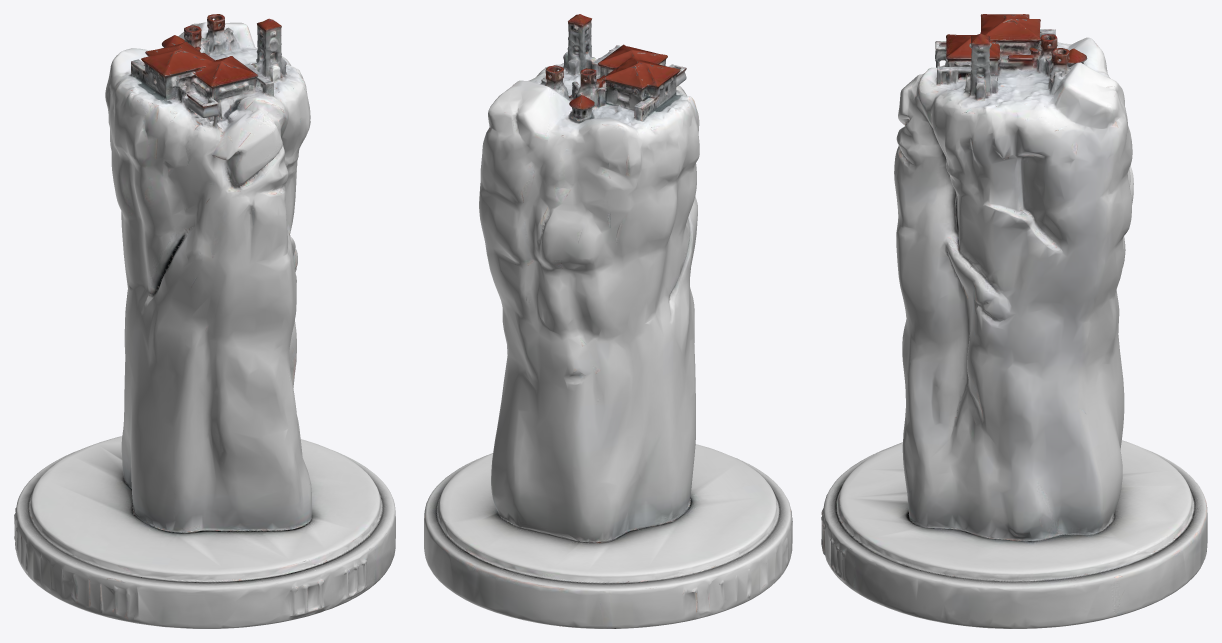
File: meteora.glb
3 renders of one model, left to right at view 1: azimuth 30°, elevation 25°; view 2: azimuth 150°, elevation 25°; view 3: azimuth 270°, elevation 25°, orthographic. The views are drawn at different scales.
Parts seen in each view (by area): view 1: Mesh_0; view 2: Mesh_0; view 3: Mesh_0.
Boxes of the visible parts, x1=… form: Mesh_0: x1=14, y1=14, x2=395, y2=628; Mesh_0: x1=424, y1=14, x2=792, y2=628; Mesh_0: x1=821, y1=14, x2=1207, y2=628.
Size of the model in its own units: 1.22 by 1.89 by 1.22.
Materials: 1 (1 with a texture image).
